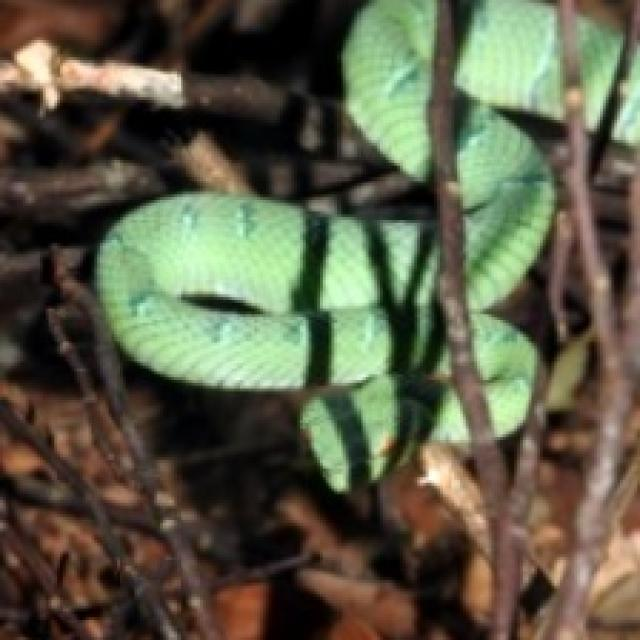north ph temple pitviper: (101, 202, 466, 499), (454, 3, 557, 434), (343, 0, 434, 186)
